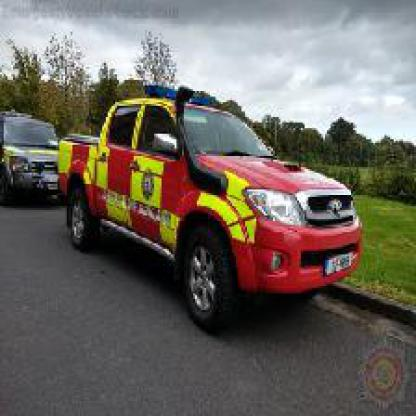emergency: (45, 82, 377, 318)
